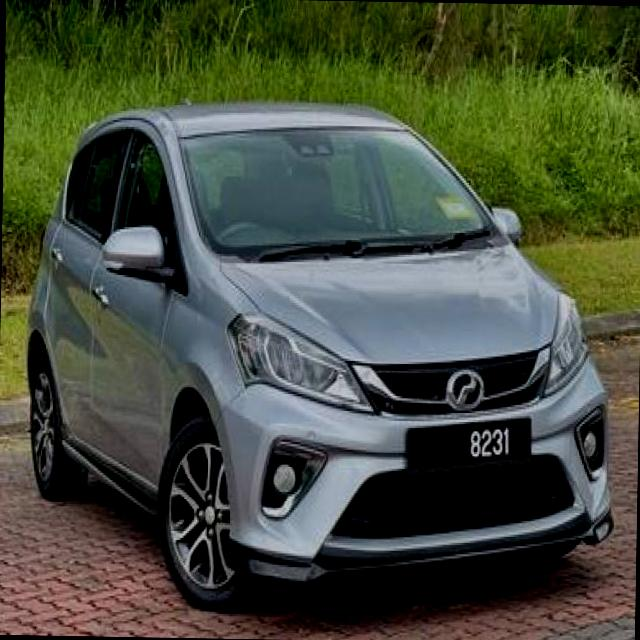PeroduaMyvi: (19, 93, 622, 618)
